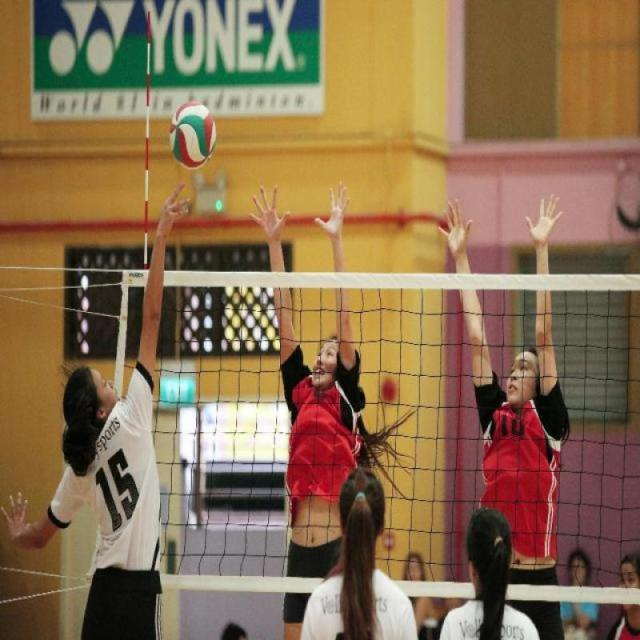volleyball: (167, 97, 215, 170)
